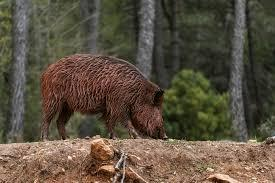wildboar: (37, 51, 169, 142)
